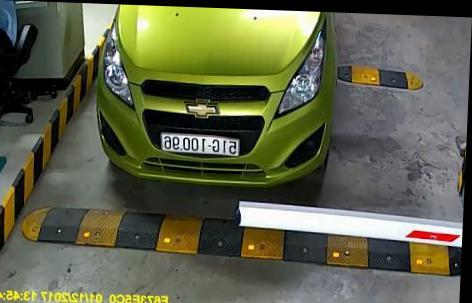License_Plate: (161, 133, 241, 158)
